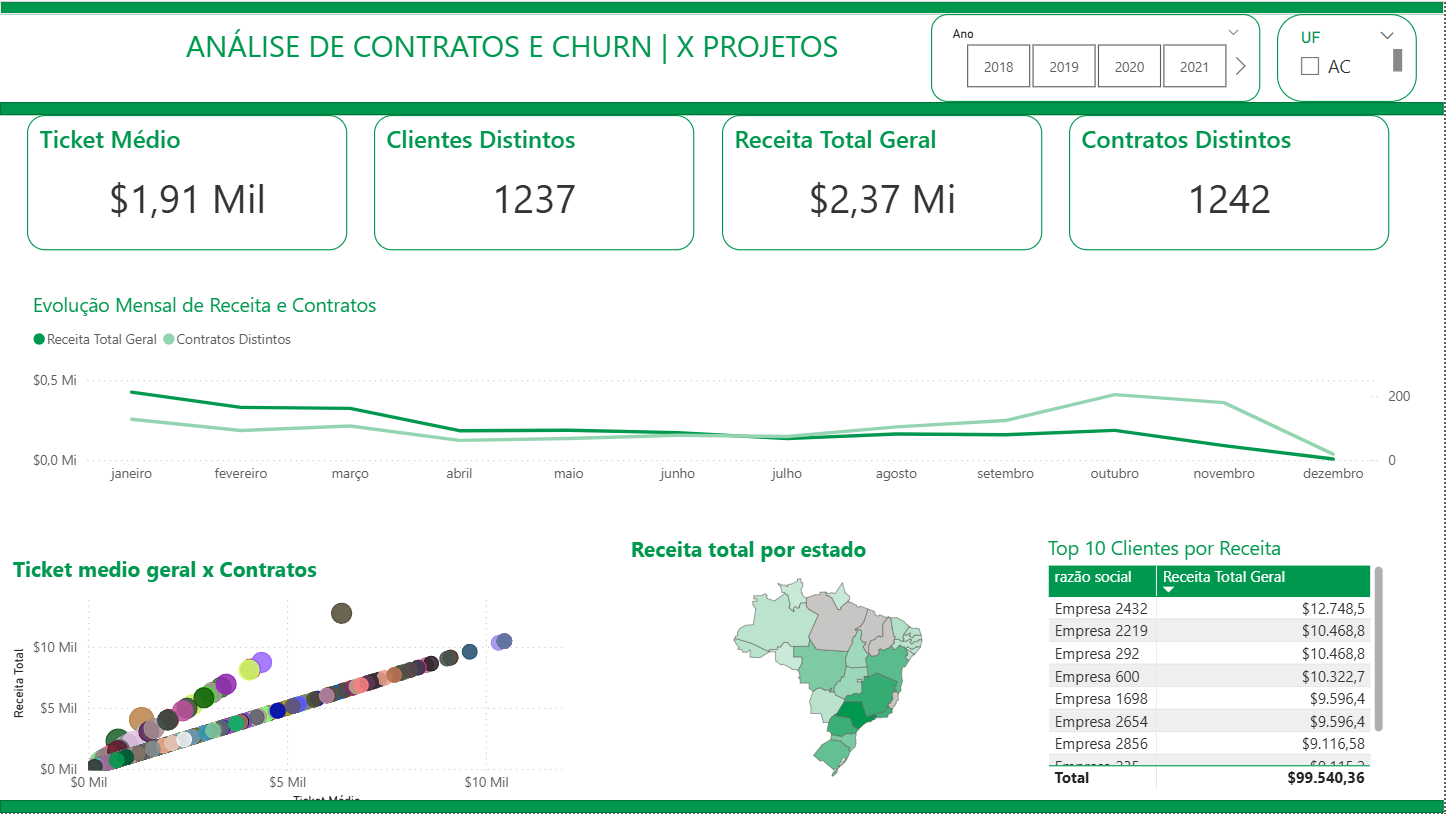

This screenshot's page, from the dashboard's own definition file:
{"tool":"powerbi","page":{"name":"Geral","canvas":[1280,720],"ordinal":0},"visuals":[{"type":"card","title":"Contratos Distintos","fields":{"Values":["Medidas.Contratos_Distintos"]},"box":[948,101,284,120],"z":0},{"type":"card","title":"Clientes Distintos","fields":{"Values":["Medidas.Clientes_Distintos"]},"box":[332,101,284,120],"z":1000},{"type":"card","title":"Receita Total Geral","fields":{"Values":["Medidas.Receita_Total_Geral"]},"box":[640,101,284,120],"z":2000},{"type":"card","title":"Ticket Médio","fields":{"Values":["Medidas.Ticket_Medio_Geral"]},"box":[24,101,284,120],"z":3000},{"type":"lineChart","title":"Evolução Mensal de Receita e Contratos","fields":{"Y":["Medidas.Receita_Total_Geral"],"Y2":["Medidas.Contratos_Distintos"],"Category":["DIM_DATA.NomeMes"]},"box":[24,257,1232,180],"z":4000},{"type":"slicer","fields":{"Values":["DIM_DATA.Ano"]},"box":[825.8,11.7,291.8,77.8],"z":5000},{"type":"shapeMap","title":"Receita total por estado","fields":{"Value":["Medidas.Receita Total Geral"],"Category":["GERAL.UF_Sigla_2"]},"box":[554.4,472.7,359.9,229.5],"z":6000},{"type":"tableEx","title":"Top 10 Clientes por Receita","fields":{"Values":["GERAL.razão social","Medidas.Receita_Total_Geral"]},"box":[923.8,472.7,307.9,230.3],"z":7000},{"type":"scatterChart","title":"Ticket medio geral x Contratos","fields":{"X":["Medidas.Ticket_Medio_Geral"],"Y":["Medidas.Receita_Total_Geral"],"Size":["Medidas.Contratos_Distintos"],"Series":["GERAL.razão social"]},"box":[6.1,490.4,520,229.6],"z":8000},{"type":"slicer","title":"UF","fields":{"Values":["GERAL.i_estados"]},"box":[1132.2,11.7,124.5,77.8],"z":9000},{"type":"shape","box":[0,0,1280,11.7],"z":10000},{"type":"textbox","box":[159.5,15.6,640,47.7],"z":12000},{"type":"shape","box":[0,89.5,1280,11.7],"z":13000},{"type":"shape","box":[0,708.1,1280,11.7],"z":14000}]}

Visuals, with their boxes in screenshot pixels (x1, y1, x2, y2), scaled from the page's 1280x720 canvas onto the 1446x814 screenshot:
"Contratos Distintos" card: [left=1071, top=114, right=1392, bottom=250]
"Clientes Distintos" card: [left=375, top=114, right=696, bottom=250]
"Receita Total Geral" card: [left=723, top=114, right=1044, bottom=250]
"Ticket Médio" card: [left=27, top=114, right=348, bottom=250]
"Evolução Mensal de Receita e Contratos" lineChart: [left=27, top=291, right=1419, bottom=494]
slicer - DIM_DATA.Ano: [left=933, top=13, right=1263, bottom=101]
"Receita total por estado" shapeMap: [left=626, top=534, right=1033, bottom=794]
"Top 10 Clientes por Receita" tableEx: [left=1044, top=534, right=1391, bottom=795]
"Ticket medio geral x Contratos" scatterChart: [left=7, top=554, right=594, bottom=813]
"UF" slicer: [left=1279, top=13, right=1420, bottom=101]
shape: [left=0, top=0, right=1445, bottom=13]
textbox: [left=180, top=18, right=903, bottom=72]
shape: [left=0, top=101, right=1445, bottom=114]
shape: [left=0, top=801, right=1445, bottom=813]
